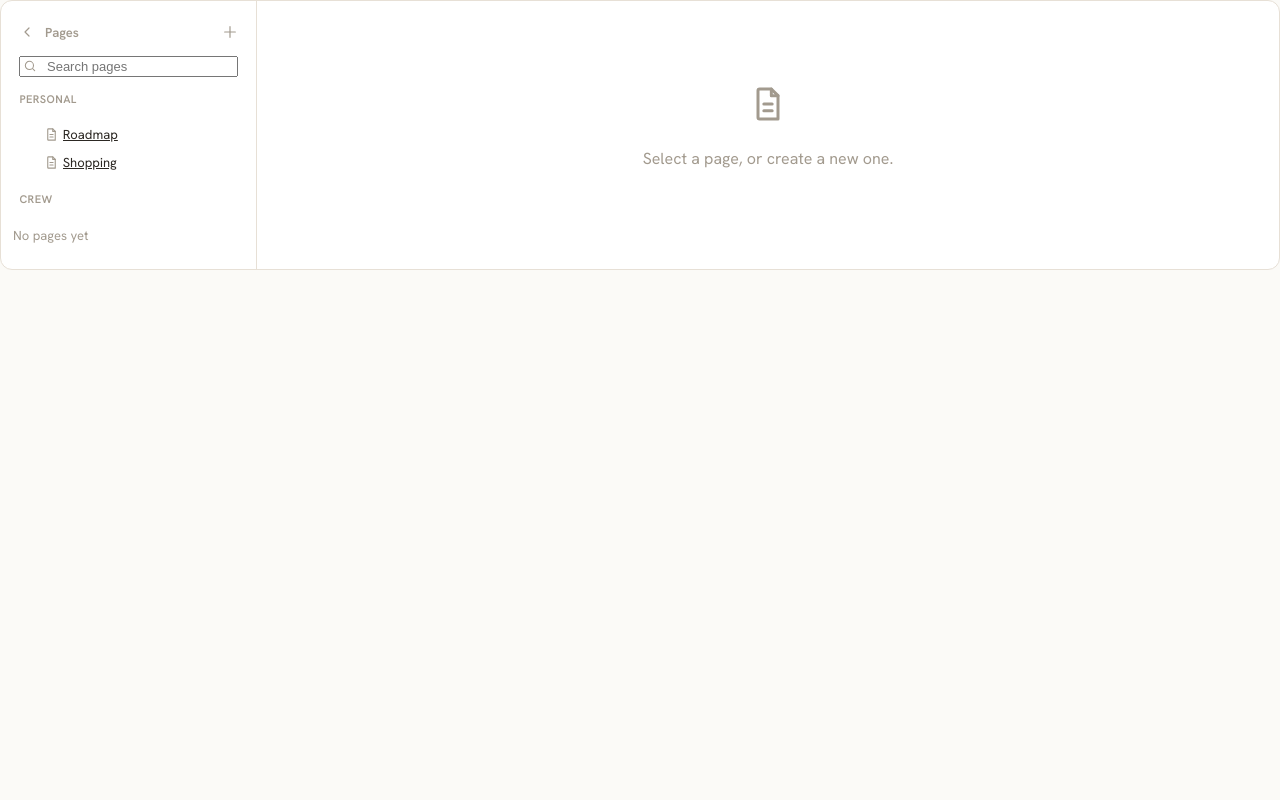
Test: PagesPage › opens the new-page modal
Click the button named "New page" at (230, 32), box [216,18,244,46]
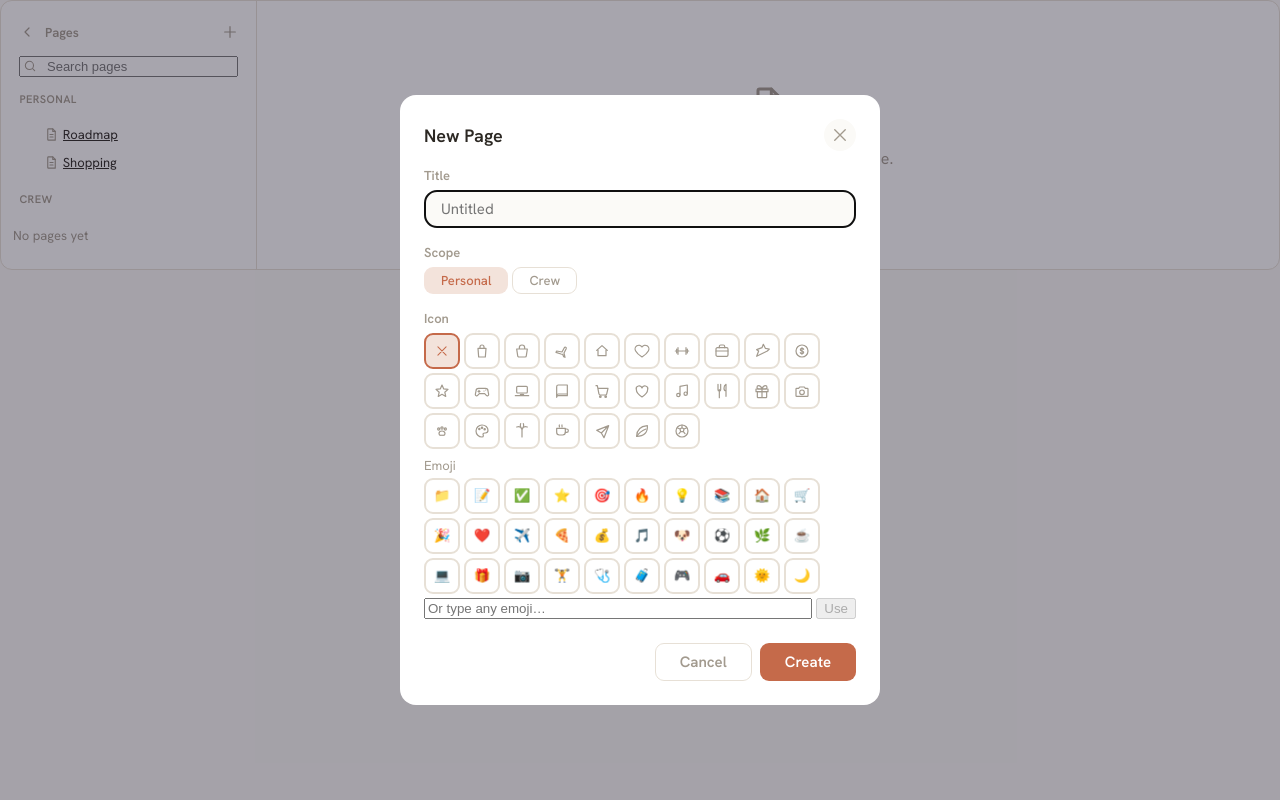
Result: the heading "New Page" is shown at [424,124,503,146]
